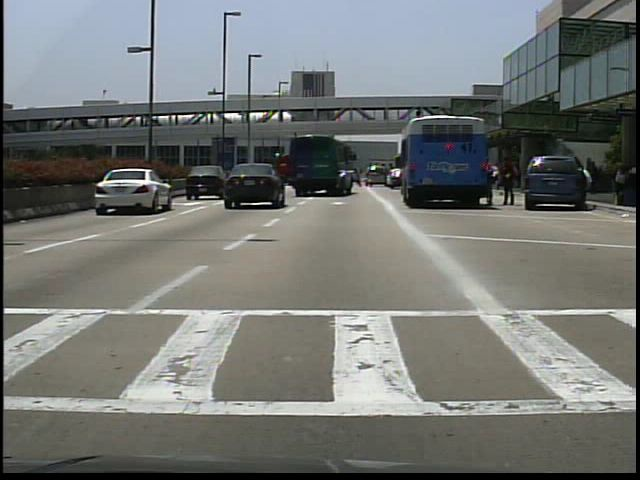person: (500, 157, 517, 205), (486, 154, 501, 206), (577, 163, 595, 203)
